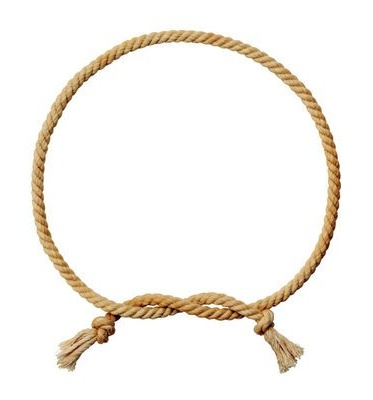9/可回收垃圾/绳子: (28, 29, 341, 376)
